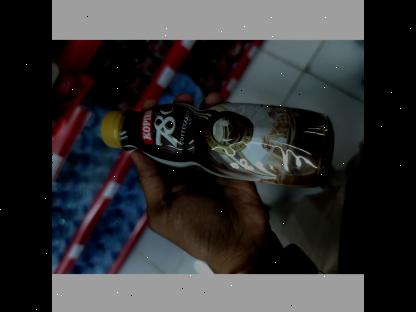Plastic Bottle: (95, 91, 348, 201)
